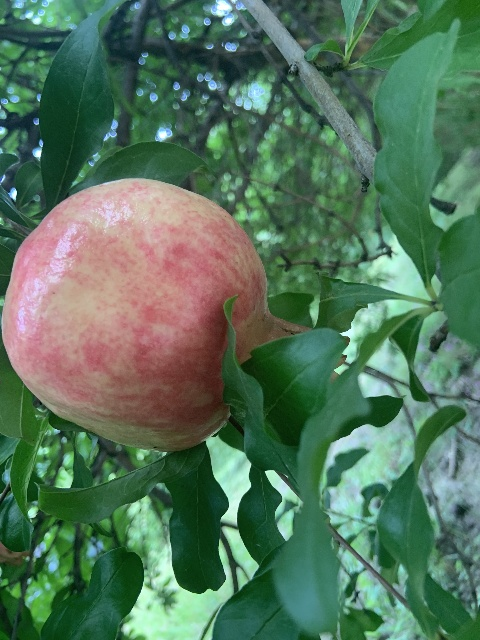ripe: (1, 179, 348, 450)
